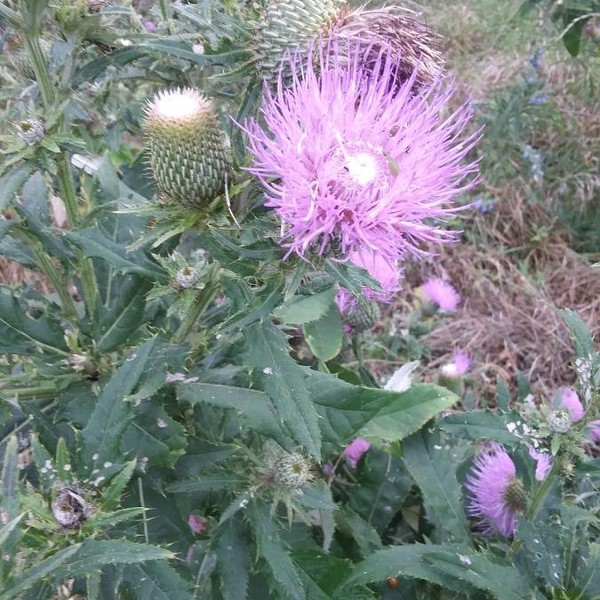obstacle: (125, 56, 475, 520)
